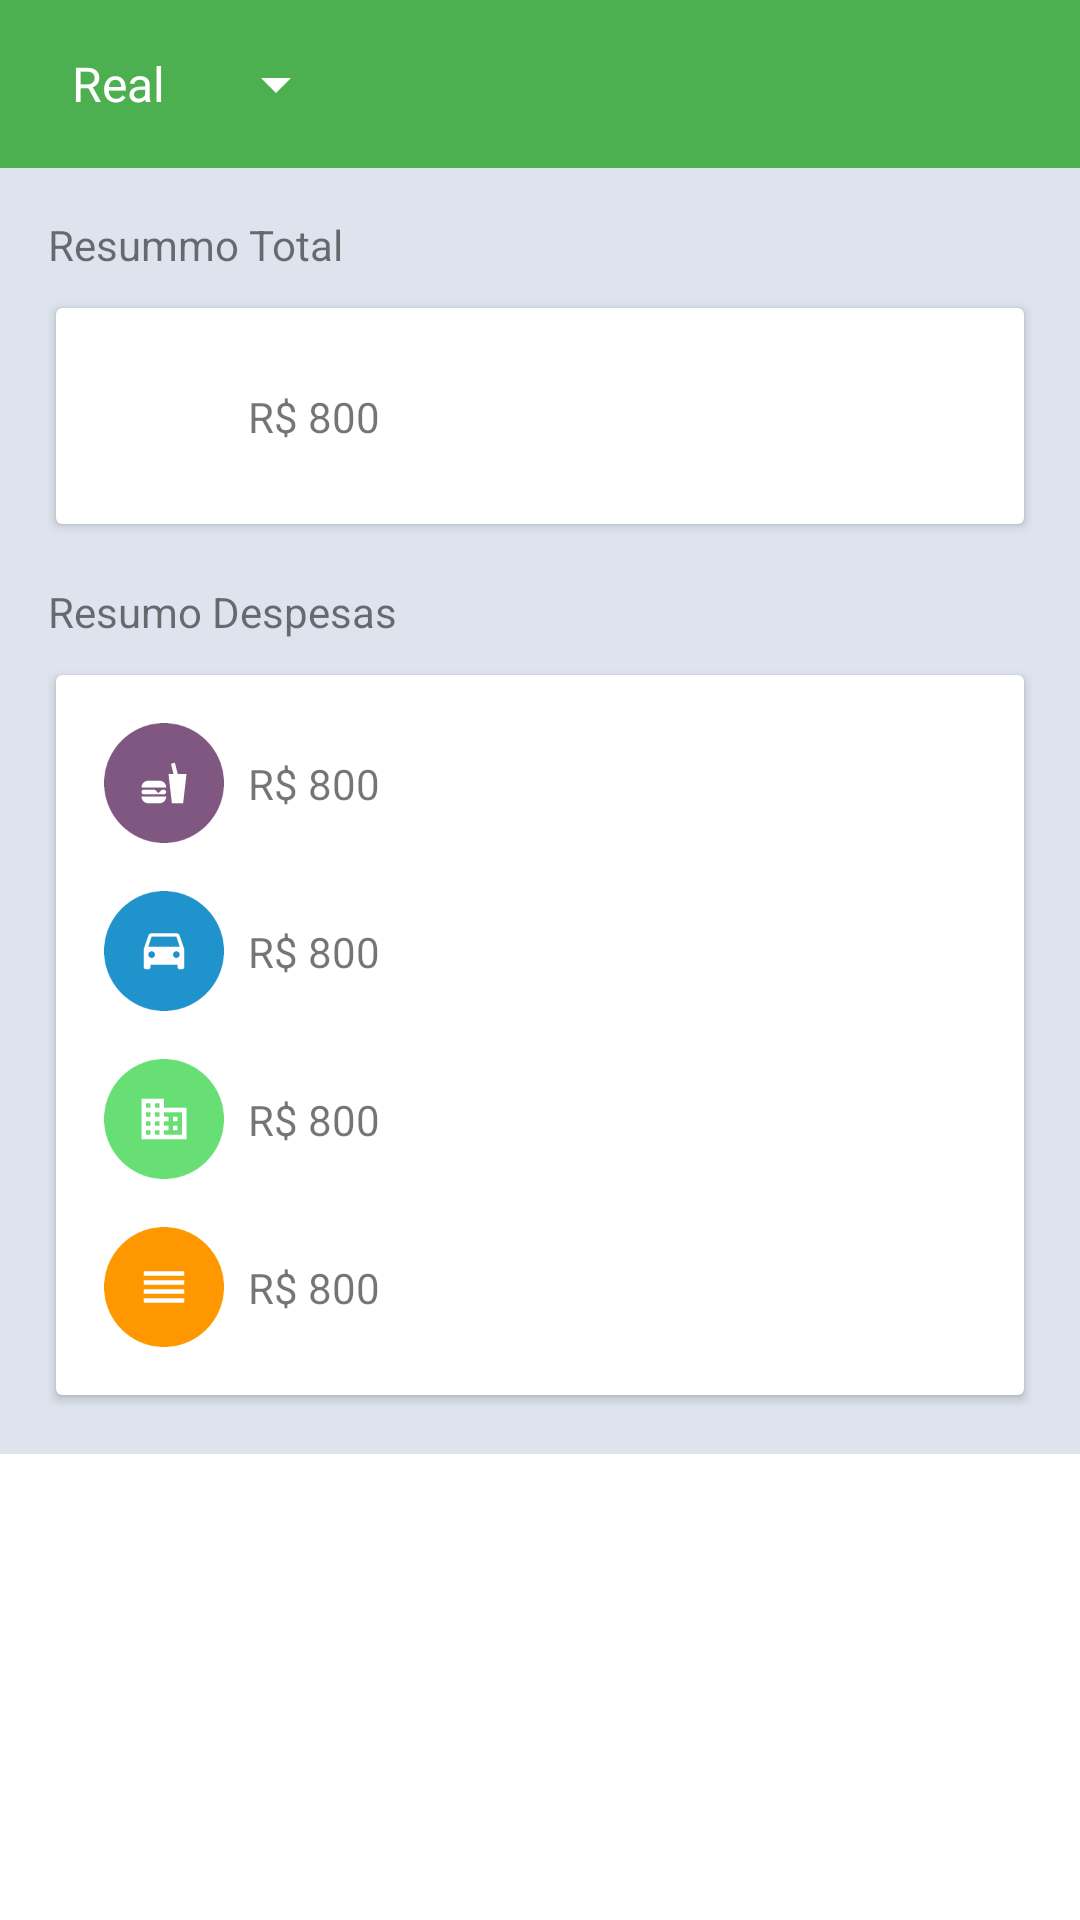

Screen size 1080×1920. Icon name, then its box in pixels as (x1, y1, x2, y2):
despesa laranja: (104, 1227, 224, 1347)
despesa roxo: (104, 723, 224, 843)
